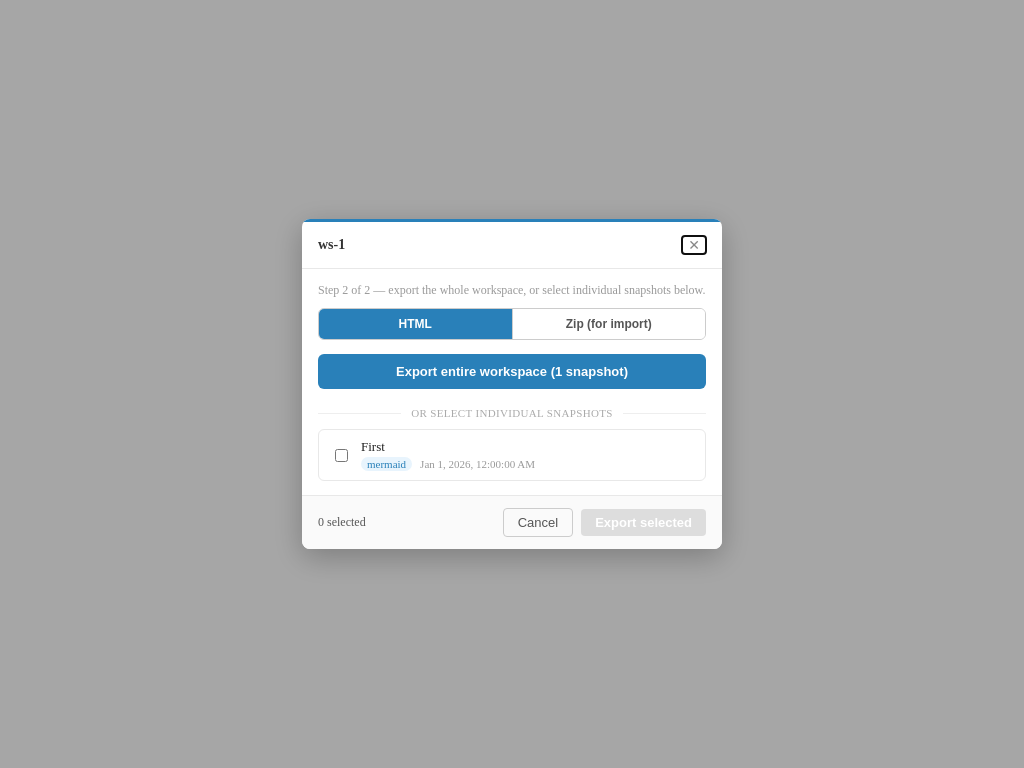
Test case: DeleteExportModal.svelte › shows an error instead of exporting when the workspace has no id-bearing snapshots (pre-migration edge case)
The image size is (1024, 768).
Click the button "Export entire workspace (1 snapshot)": {"x": 512, "y": 372} [318,354,706,389]
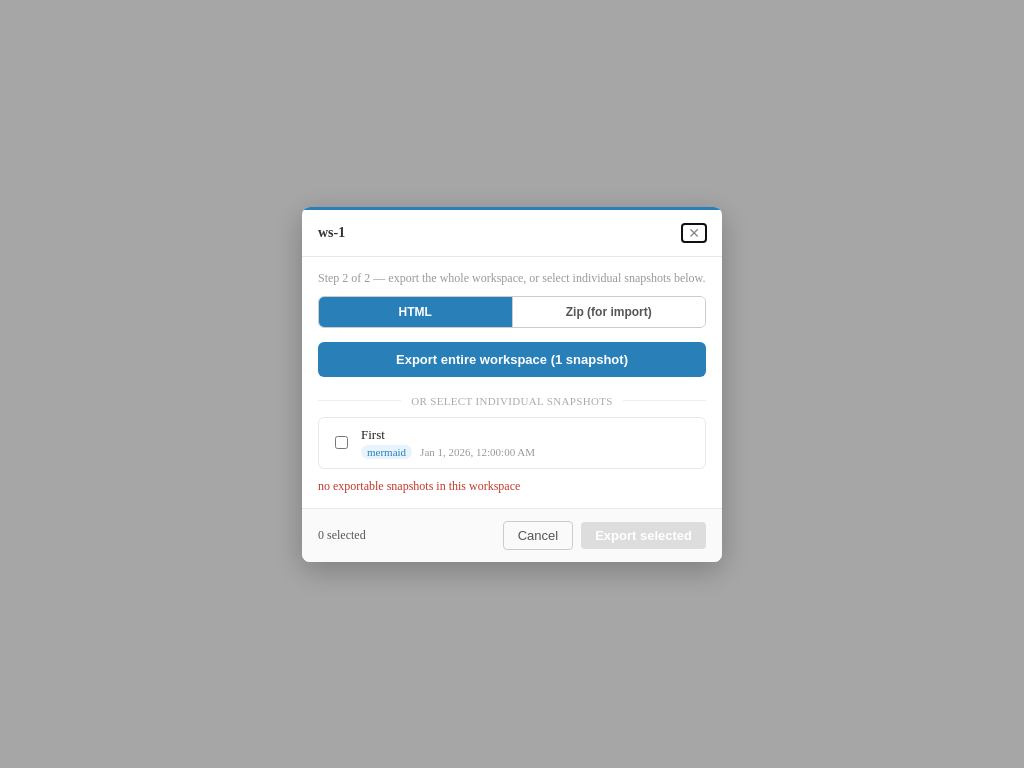
expect the text "no exportable snapshots in this workspace" is shown: met, box [318,478,520,492]
